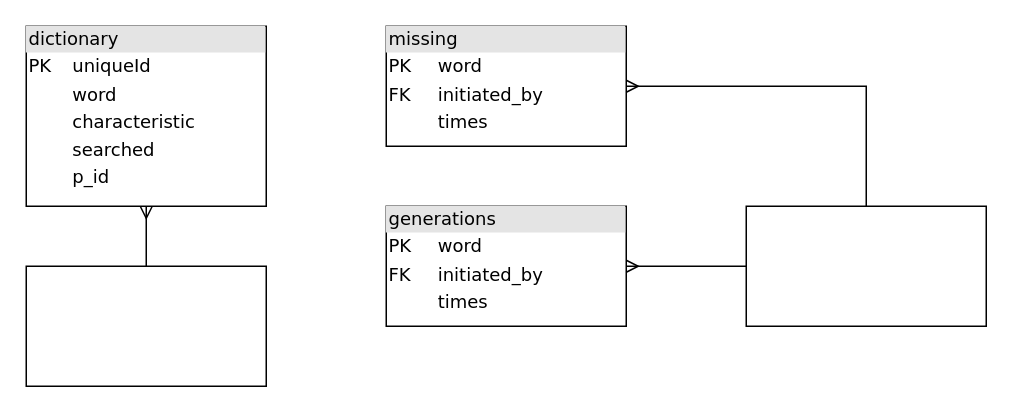
Some shapes in this 1013 by 413 pixel diagram are drawn without their labels. The box of each missing label's shape, as (x1, y1, x2, y2) in pixels:
initiators PK uniqueId Initiator: (745, 205, 986, 326)
parts_of_speach PK p_id part_of_speach: (25, 265, 266, 386)
